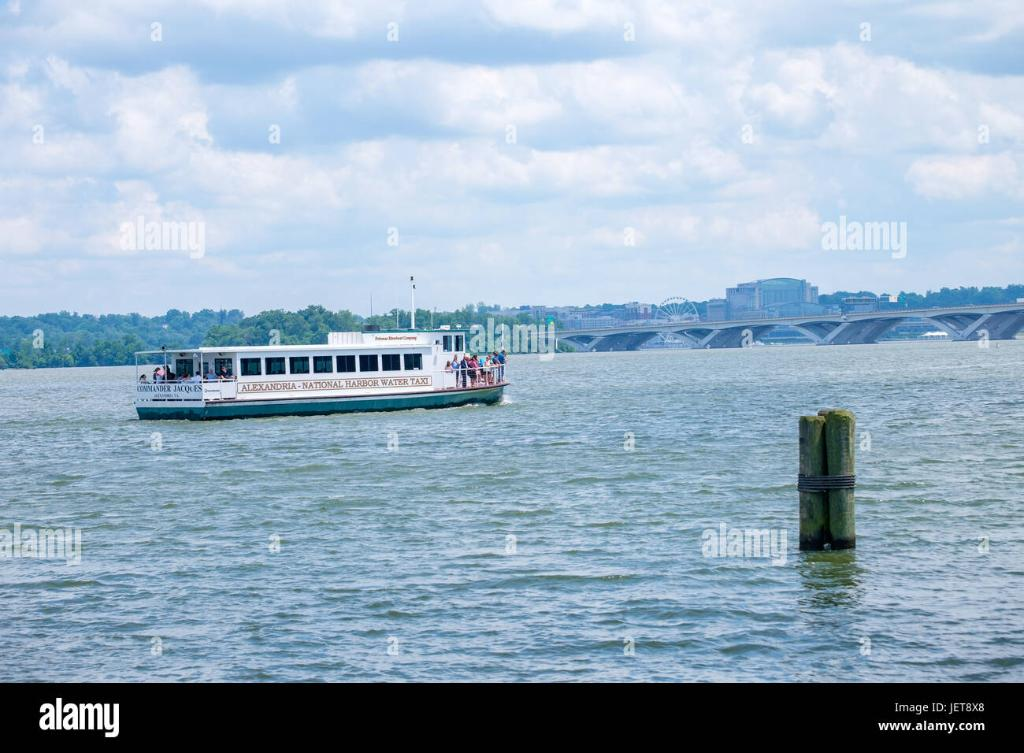PassengerShip: (132, 298, 520, 427)
